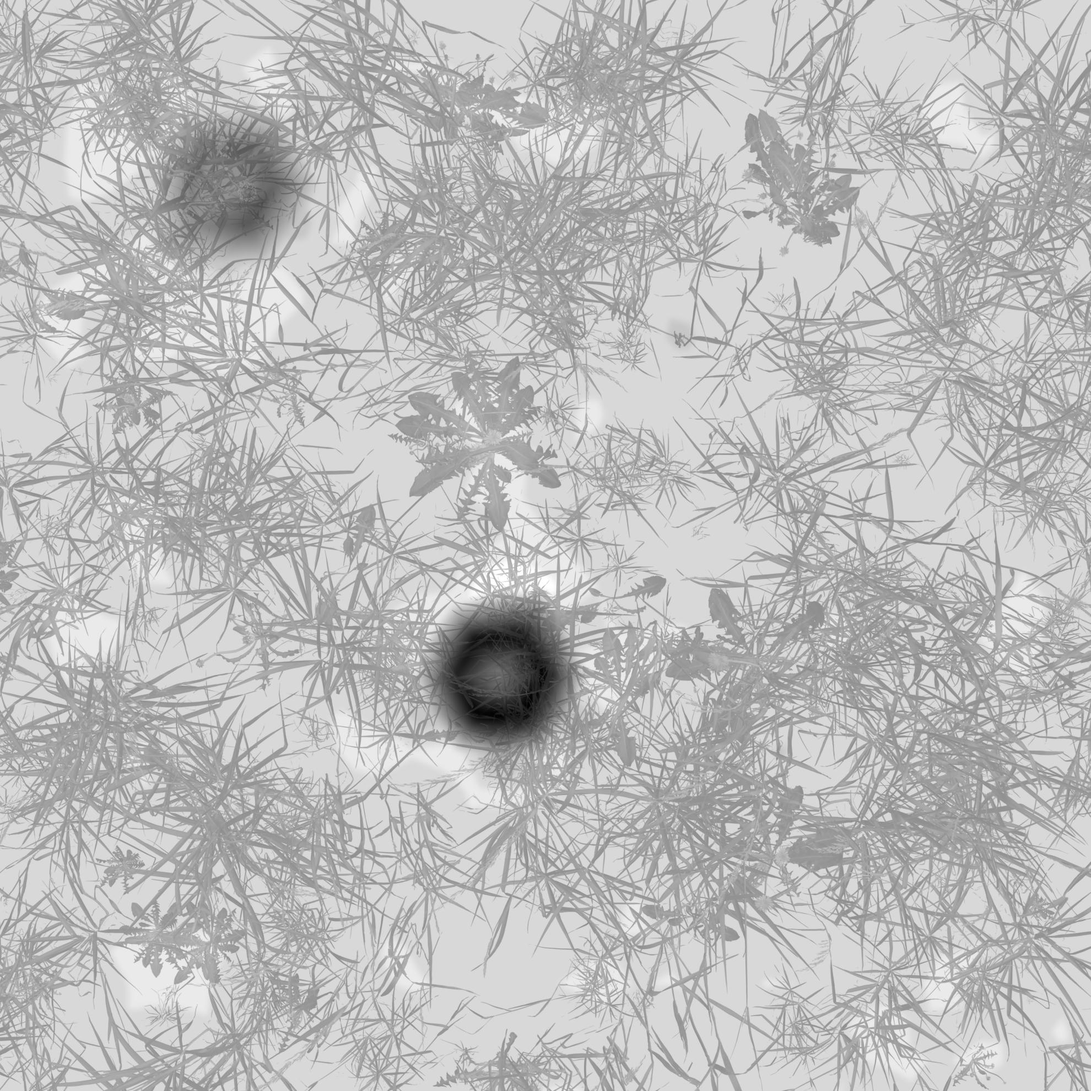landmine: (433, 607, 571, 743)
